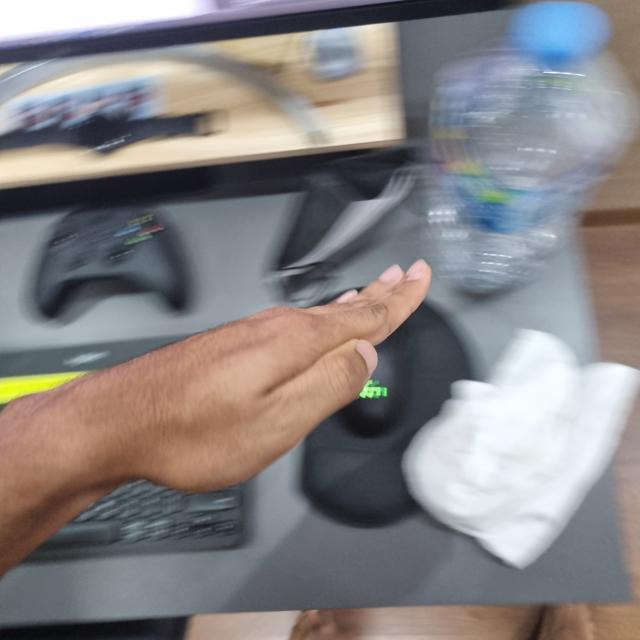Paper: (99, 265, 428, 491)
